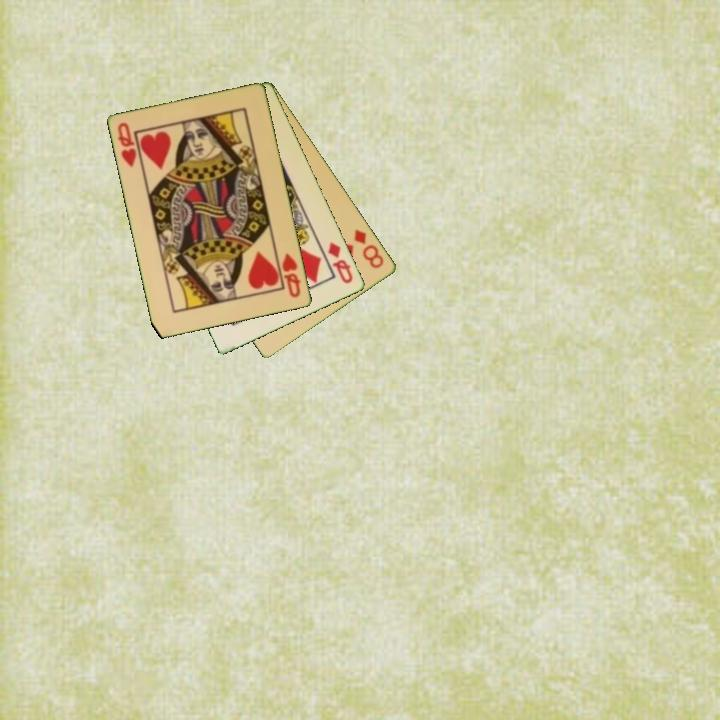8d: (351, 226, 387, 272)
Qd: (325, 238, 356, 287)
Qh: (114, 119, 140, 171), (279, 250, 304, 301)
